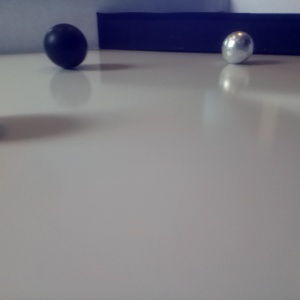zone: (96, 12, 300, 56)
